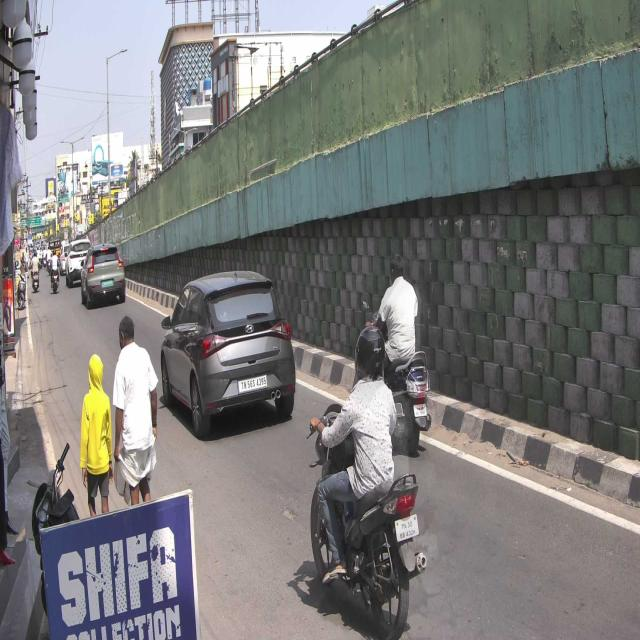single_rider: (306, 324, 428, 640)
